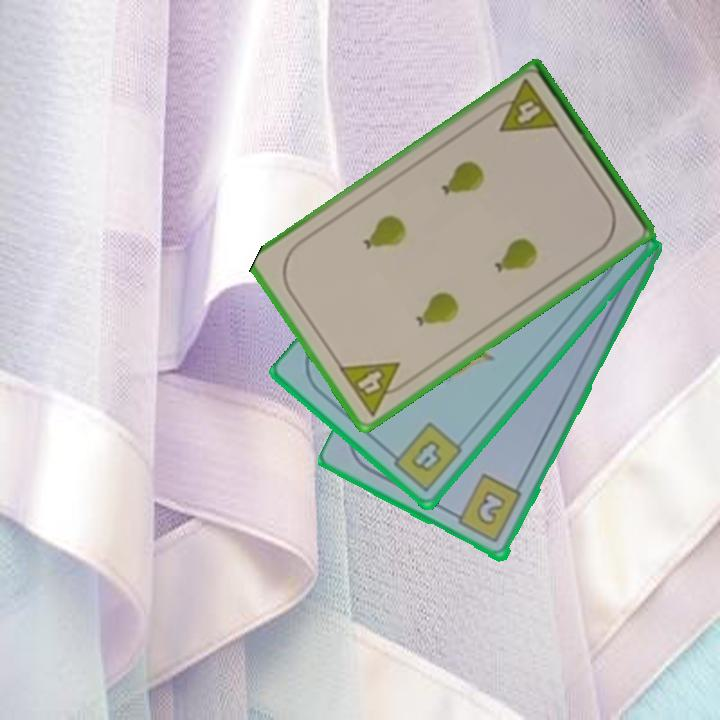2b: (447, 471, 525, 546)
4b: (384, 418, 466, 495)
4p: (335, 358, 414, 419), (486, 75, 563, 136)
